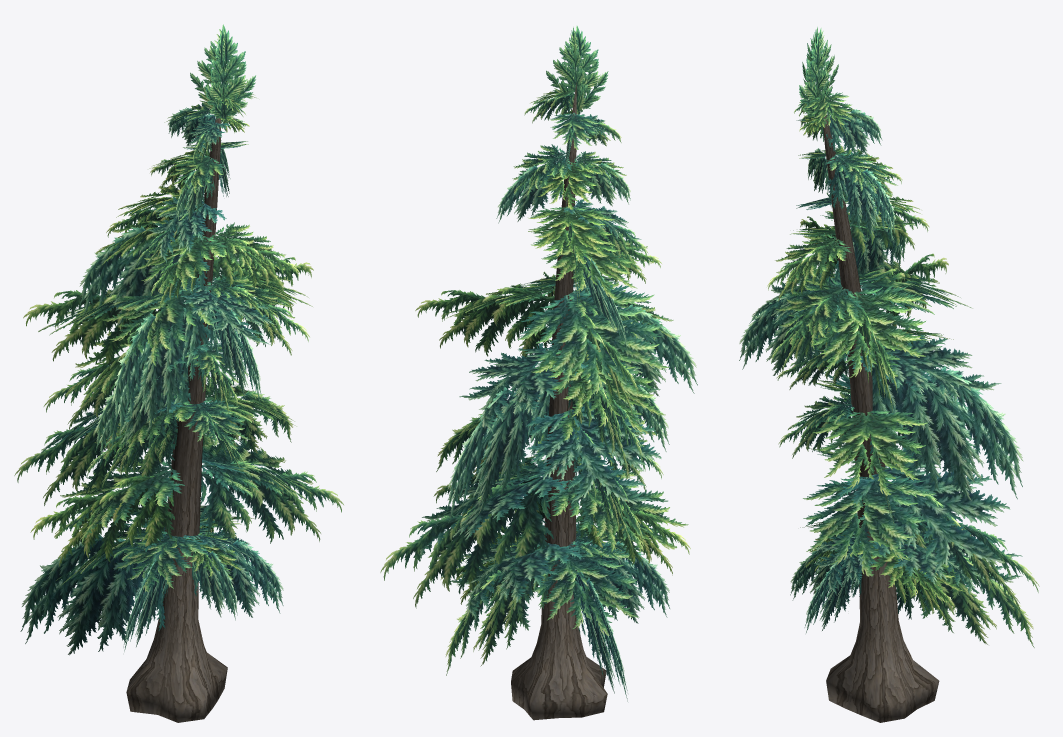
Rendered from tree_pine_ragged.glb.
3 renders of one model, left to right at view 1: azimuth 30°, elevation 25°; view 2: azimuth 150°, elevation 25°; view 3: azimuth 270°, elevation 25°, orthographic. The views are drawn at different scales.
Parts seen in each view (by area): view 1: tree_pine_ragged; view 2: tree_pine_ragged; view 3: tree_pine_ragged.
Part boxes in pixels (x1,y1,x2,y2): tree_pine_ragged: (14, 24, 343, 722); tree_pine_ragged: (380, 26, 697, 720); tree_pine_ragged: (739, 27, 1039, 722).
Size of the model in its own units: 11.78 by 26.22 by 10.82.
2 materials, 2 textured.
